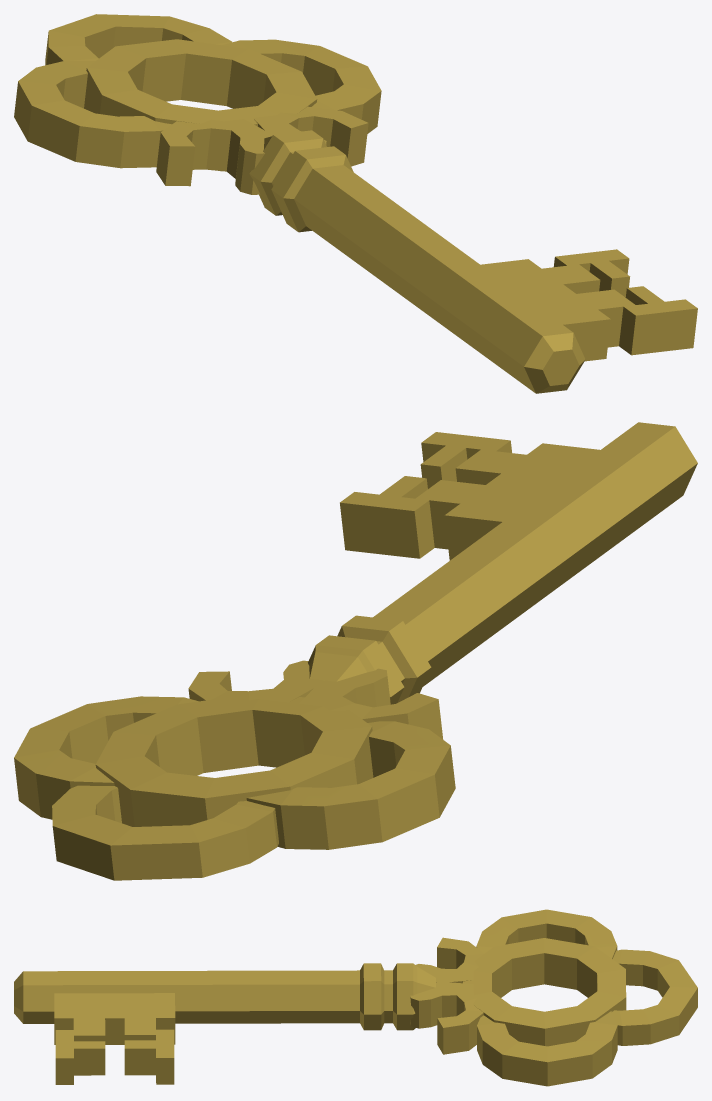
File: key4.glb
The picture shows the model from 3 angles, top to bottom: view 1: azimuth 30°, elevation 25°; view 2: azimuth 150°, elevation 25°; view 3: azimuth 270°, elevation 25°; orthographic projection. The views are drawn at different scales.
Parts seen in each view (by area): view 1: Key4; view 2: Key4; view 3: Key4.
Boxes of the visible parts, bbox=[...] form: Key4: bbox=[14, 14, 697, 393]; Key4: bbox=[14, 422, 697, 880]; Key4: bbox=[14, 909, 697, 1086].
Bounding box in the file's own units: 0.4282 × 0.0946 × 1.01.
